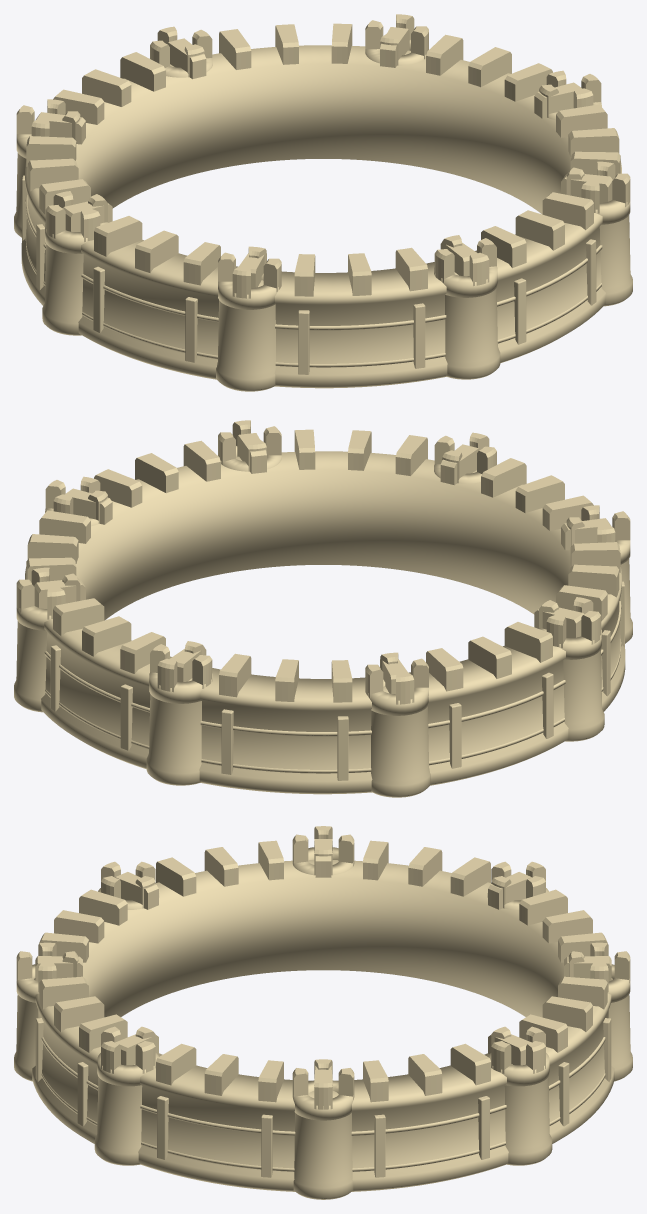
The model's file is city-wall-beige.fbx.
The picture shows the model from 3 angles, top to bottom: view 1: azimuth 30°, elevation 25°; view 2: azimuth 150°, elevation 25°; view 3: azimuth 270°, elevation 25°; orthographic projection. The views are drawn at different scales.
Visible parts, largest first — view 1: City_Wall_Moulded_Ring; view 2: City_Wall_Moulded_Ring; view 3: City_Wall_Moulded_Ring.
Boxes of the visible parts, box(x1,y1,x2,y2) form: City_Wall_Moulded_Ring: box(14, 14, 632, 391); City_Wall_Moulded_Ring: box(14, 420, 632, 797); City_Wall_Moulded_Ring: box(14, 826, 632, 1199).
Bounding box in the file's own units: 0.024 × 0.005 × 0.024.
